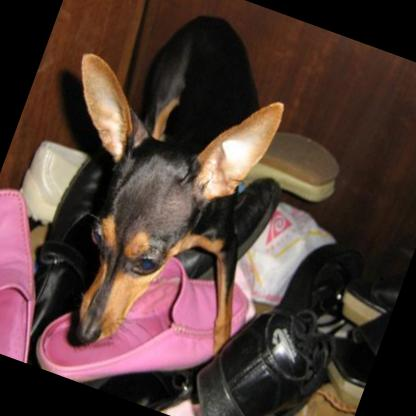miniature_pinscher: (0, 0, 329, 390)
